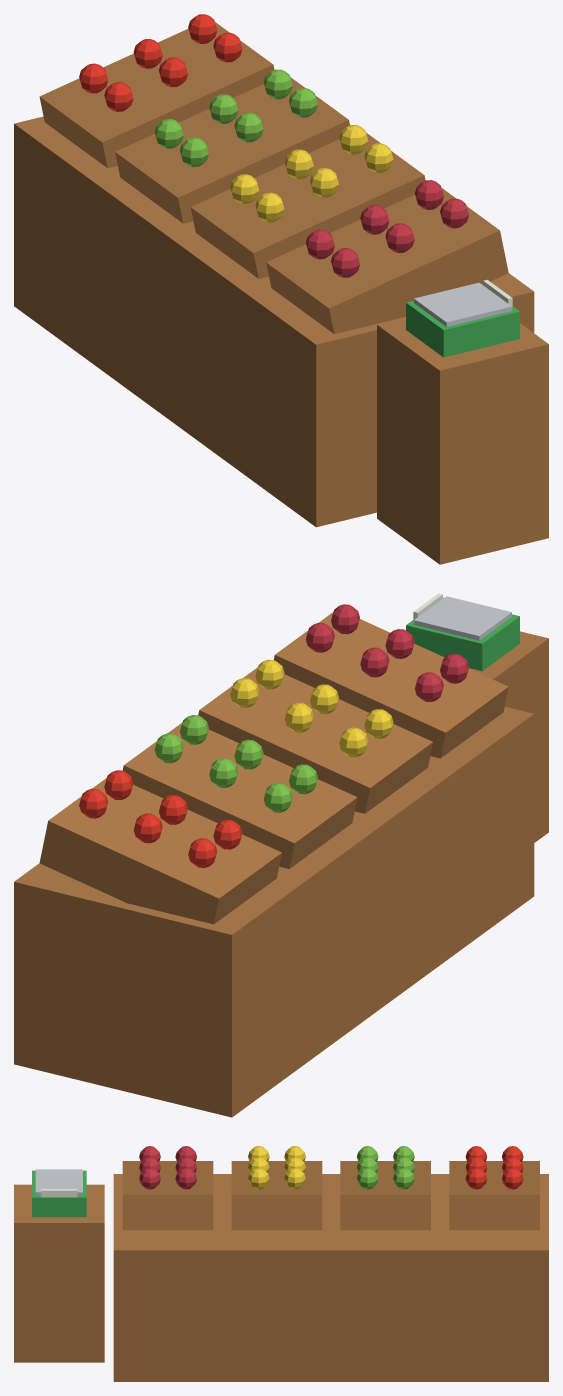
File: produce_stand.glb
3 views of the same model, one above another, from view 1: azimuth 30°, elevation 25°; view 2: azimuth 150°, elevation 25°; view 3: azimuth 270°, elevation 25° (orthographic). The views are drawn at different scales.
Parts seen in each view (by area): view 1: table_crate_wood, crate_crate_wood, stool_crate_wood, fruit, scale_scale_green, tray_scale_tray; view 2: table_crate_wood, crate_crate_wood, fruit, stool_crate_wood, scale_scale_green, tray_scale_tray; view 3: table_crate_wood, crate_crate_wood, stool_crate_wood, fruit, scale_scale_green, tray_scale_tray, dial_scale_dial.
Part boxes in pixels (x1,y1,x2,y2): table_crate_wood: [14, 116, 534, 527]; crate_crate_wood: [39, 22, 508, 333]; stool_crate_wood: [377, 317, 548, 564]; fruit: [79, 14, 468, 277]; scale_scale_green: [406, 284, 519, 357]; tray_scale_tray: [414, 282, 511, 326]; table_crate_wood: [14, 706, 534, 1117]; crate_crate_wood: [39, 612, 508, 924]; fruit: [79, 604, 468, 867]; stool_crate_wood: [469, 631, 548, 842]; scale_scale_green: [406, 597, 519, 670]; tray_scale_tray: [414, 596, 511, 640]; table_crate_wood: [113, 1174, 548, 1381]; crate_crate_wood: [122, 1161, 539, 1230]; stool_crate_wood: [14, 1184, 104, 1362]; fruit: [139, 1146, 523, 1189]; scale_scale_green: [32, 1170, 86, 1217]; tray_scale_tray: [35, 1169, 82, 1195]; dial_scale_dial: [41, 1189, 77, 1197].
Size of the model in its own units: 1 by 1.18 by 2.95.
